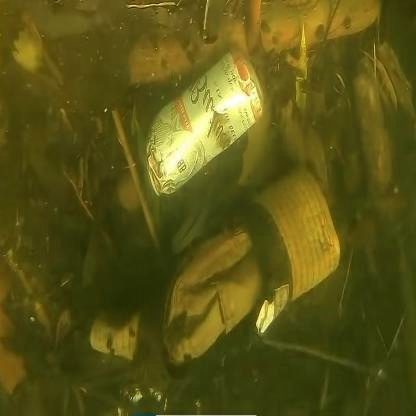can: (129, 41, 276, 193)
misc: (173, 195, 343, 367)
